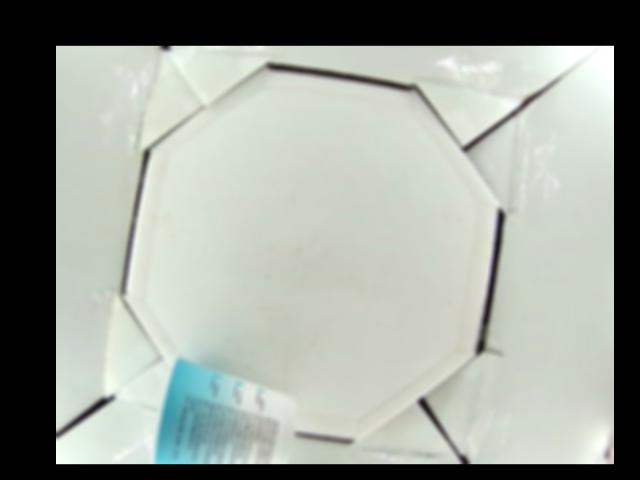Cup: (151, 356, 295, 464)
